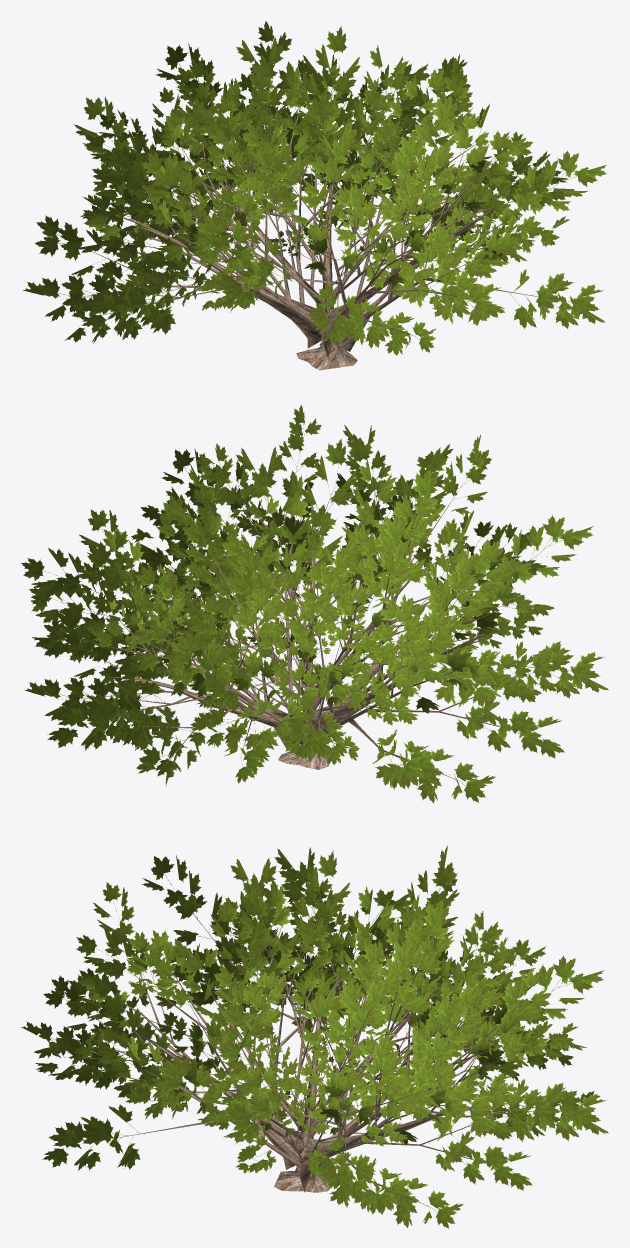
Rendered from bush9.obj.
3 renders of one model, top to bottom at view 1: azimuth 30°, elevation 25°; view 2: azimuth 150°, elevation 25°; view 3: azimuth 270°, elevation 25°, orthographic.
Visible parts, largest first — view 1: leaf maple, bark02; view 2: leaf maple, bark02; view 3: leaf maple, bark02.
Boxes of the visible parts, left/top/right/bottom form: leaf maple: left=23, top=21, right=607, bottom=355; bark02: left=60, top=74, right=568, bottom=370; leaf maple: left=21, top=405, right=608, bottom=803; bark02: left=58, top=446, right=568, bottom=781; leaf maple: left=21, top=846, right=608, bottom=1228; bark02: left=64, top=888, right=571, bottom=1208.
Size of the model in its own units: 334 by 169 by 319.
2 materials, 2 textured.
